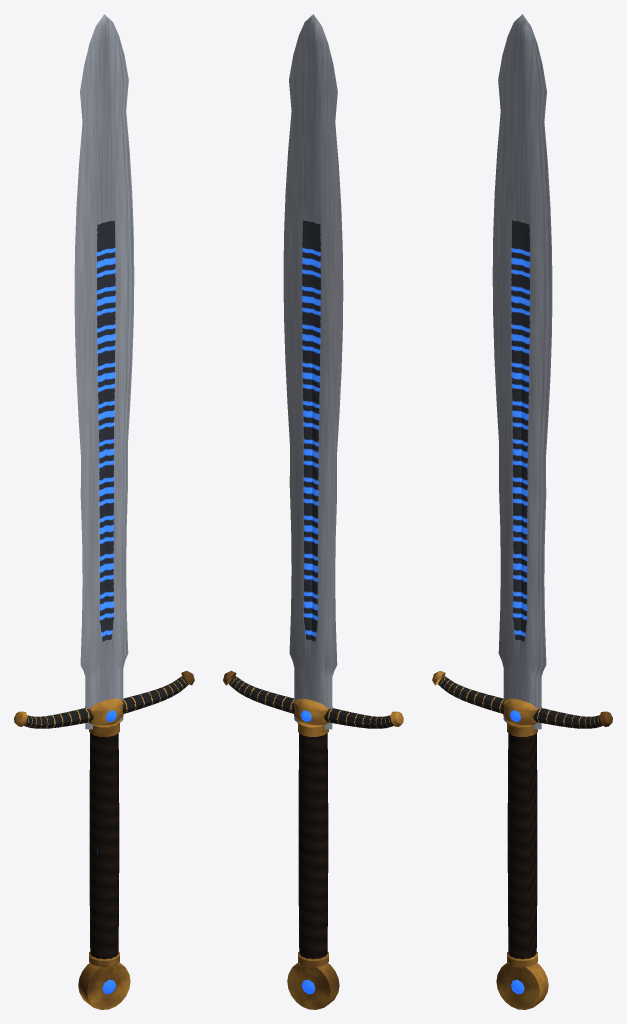
The model's file is SM_Weapon_FppSword02.fbx.
3 views of the same model, side by side, from view 1: azimuth 30°, elevation 25°; view 2: azimuth 150°, elevation 25°; view 3: azimuth 330°, elevation 25° (orthographic).
Parts seen in each view (by area): view 1: SM_Weapon_FppSword02; view 2: SM_Weapon_FppSword02; view 3: SM_Weapon_FppSword02.
Part boxes in pixels (left/top/right/bottom): SM_Weapon_FppSword02: left=14, top=14, right=194, bottom=1009; SM_Weapon_FppSword02: left=223, top=14, right=403, bottom=1009; SM_Weapon_FppSword02: left=432, top=14, right=612, bottom=1009.
Bounding box in the file's own units: 0.2199 × 1.17 × 0.038.
